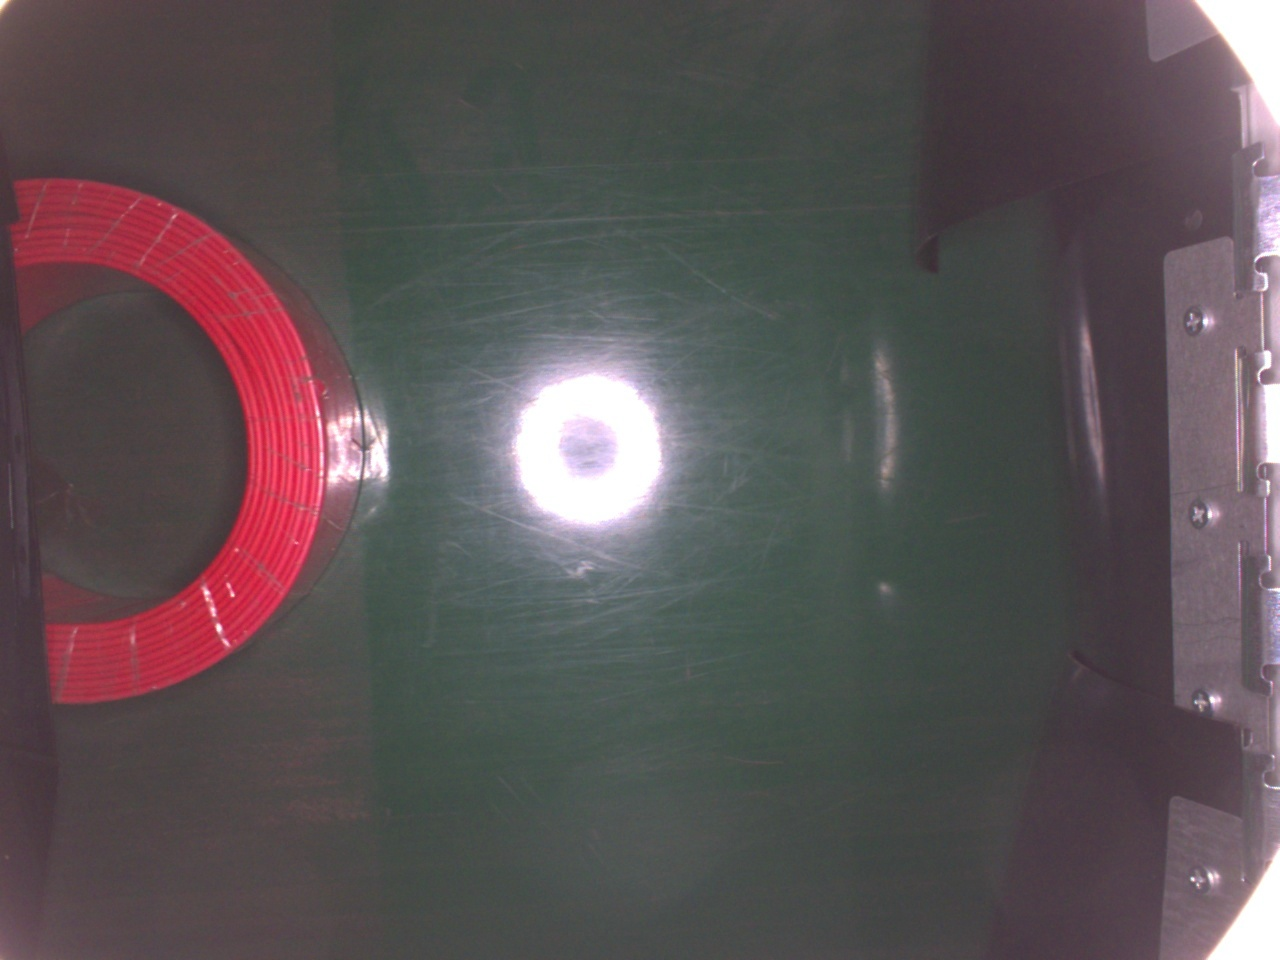red: (6, 173, 366, 707)
